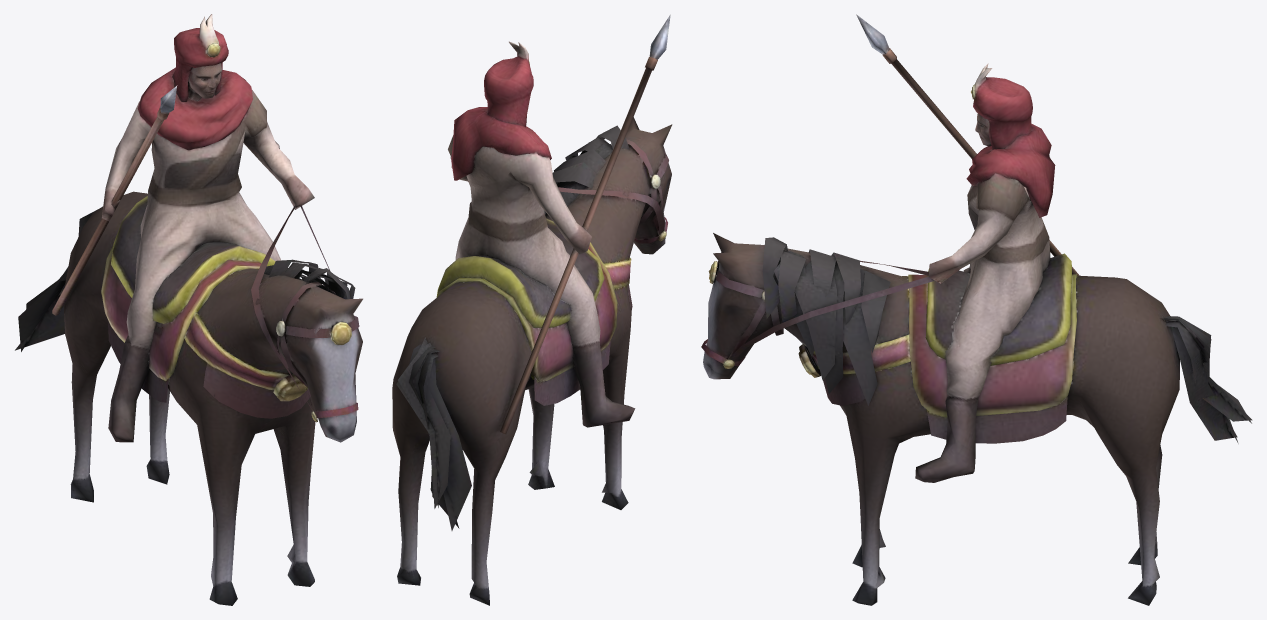
The model's file is Cavalry.glb.
The picture shows the model from 3 angles, left to right: view 1: azimuth 30°, elevation 25°; view 2: azimuth 150°, elevation 25°; view 3: azimuth 270°, elevation 25°; orthographic projection. The views are drawn at different scales.
Parts seen in each view (by area): view 1: Cavalry_01; view 2: Cavalry_01; view 3: Cavalry_01.
Part boxes in pixels (x1=…): Cavalry_01: x1=15, y1=14, x2=362, y2=605; Cavalry_01: x1=392, y1=14, x2=672, y2=605; Cavalry_01: x1=701, y1=14, x2=1252, y2=605.
Size of the model in its own units: 1.05 by 2.72 by 2.6.
Materials: 1 (1 with a texture image).
